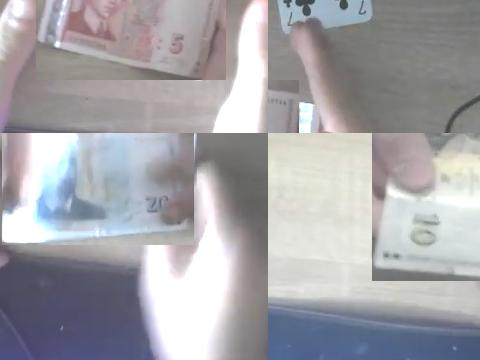10leva: (372, 133, 480, 281)
20leva: (2, 133, 194, 245)
5leva: (36, 0, 223, 80)
